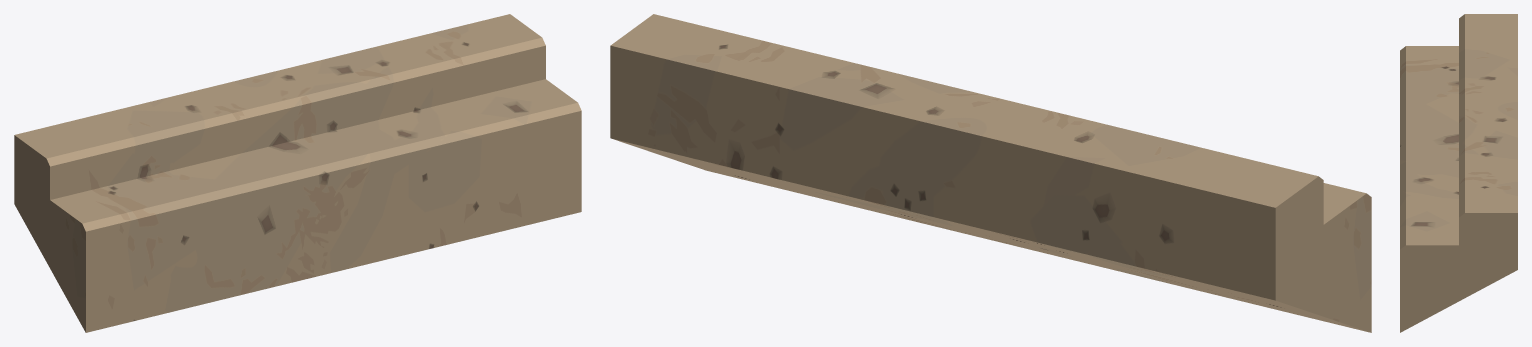
Rendered from SM_Bld_Stair_Quarter_01.fbx.
3 renders of one model, left to right at view 1: azimuth 30°, elevation 25°; view 2: azimuth 150°, elevation 25°; view 3: azimuth 270°, elevation 25°, orthographic. The views are drawn at different scales.
Visible parts, largest first — view 1: SM_Bld_Stair_Quarter_01; view 2: SM_Bld_Stair_Quarter_01; view 3: SM_Bld_Stair_Quarter_01.
Part boxes in pixels (<box>): SM_Bld_Stair_Quarter_01: <box>14,14,581,332</box>; SM_Bld_Stair_Quarter_01: <box>610,14,1371,332</box>; SM_Bld_Stair_Quarter_01: <box>1400,14,1517,332</box>.
Size of the model in its own units: 250 by 70.16 by 62.5.
